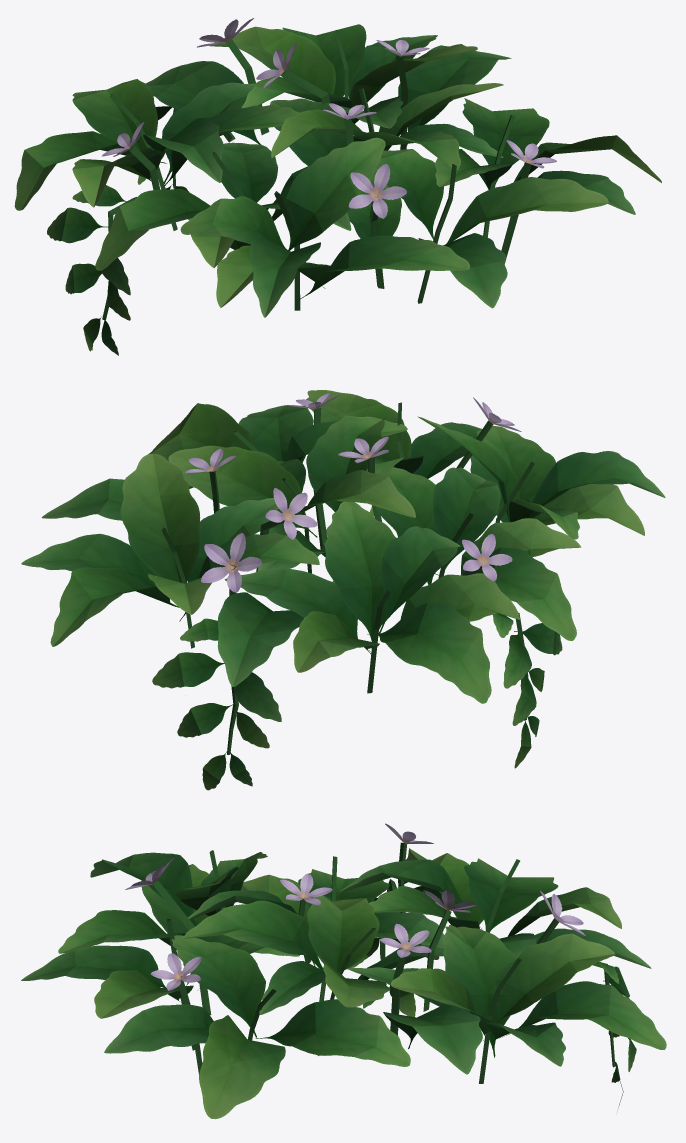
The model's file is P_FlowerSansejing_02.obj.
The picture shows the model from 3 angles, top to bottom: view 1: azimuth 30°, elevation 25°; view 2: azimuth 150°, elevation 25°; view 3: azimuth 270°, elevation 25°; orthographic projection.
Bounding box in the file's own units: 0.7591 × 0.3502 × 0.8584.
1 material, 1 textured.
